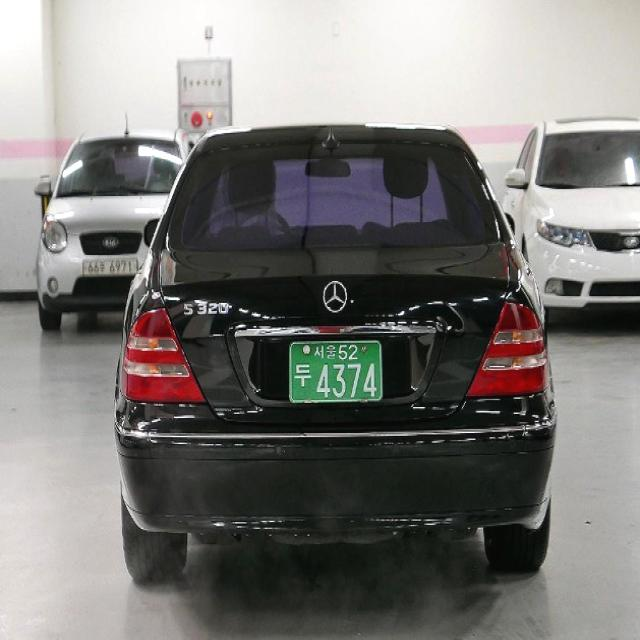car: (110, 115, 560, 591)
illegal_plate: (284, 336, 384, 409)
